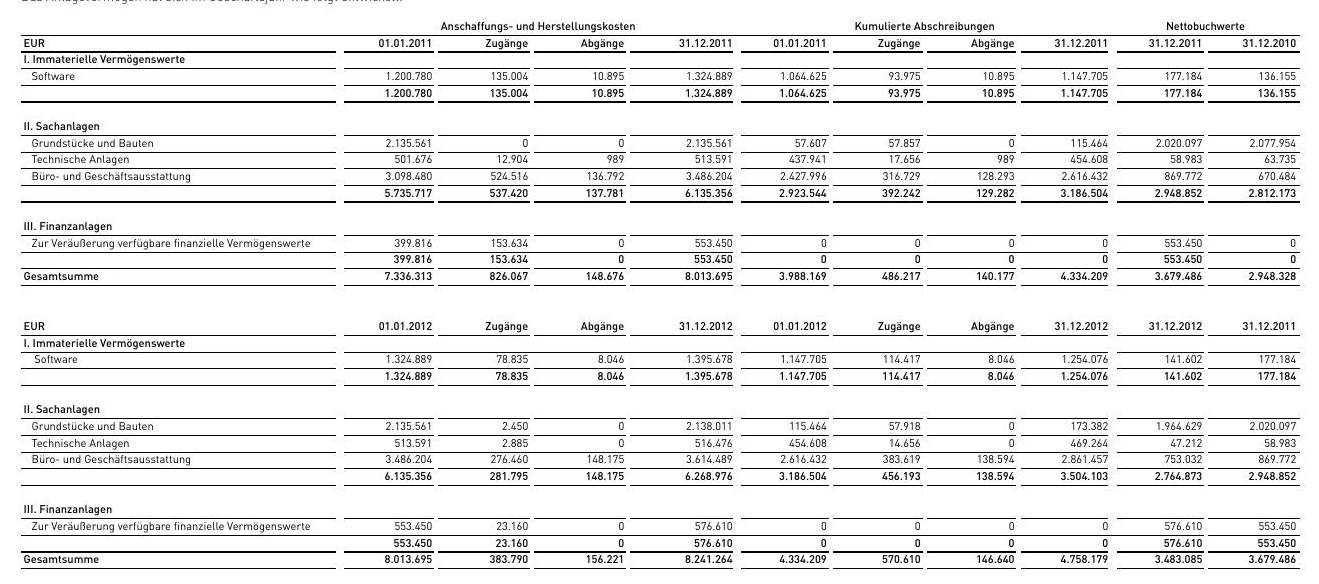table: (0, 0, 1319, 584)
